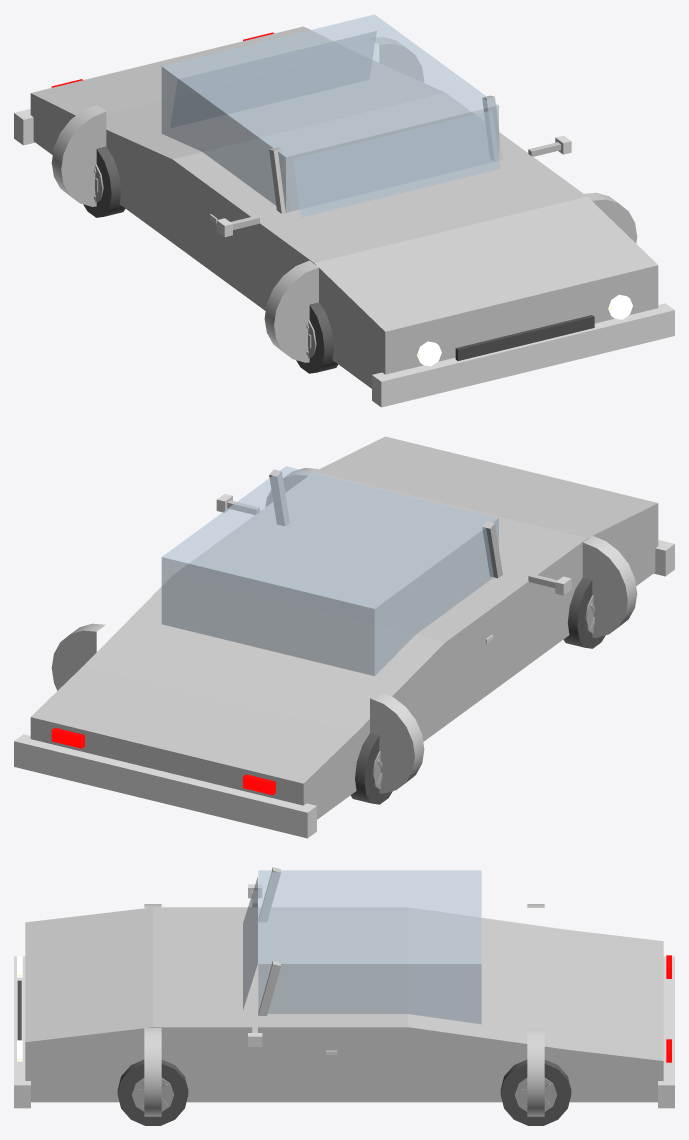
Rendered from sedan.glb.
The picture shows the model from 3 angles, top to bottom: view 1: azimuth 30°, elevation 25°; view 2: azimuth 150°, elevation 25°; view 3: azimuth 270°, elevation 25°; orthographic projection. The views are drawn at different scales.
Parts seen in each view (by area): view 1: sedan, wheel_FL, wheel_RL; view 2: sedan, wheel_RL, wheel_FL; view 3: sedan, wheel_FR, wheel_RR.
Boxes of the visible parts, box(x1,y1,x2,y2) form: sedan: box(14, 14, 674, 407); wheel_FL: box(296, 302, 338, 373); wheel_RL: box(83, 146, 125, 217); sedan: box(14, 436, 674, 838); wheel_RL: box(350, 733, 392, 804); wheel_FL: box(563, 577, 605, 648); sedan: box(14, 867, 674, 1116); wheel_FR: box(117, 1059, 188, 1125); wheel_RR: box(500, 1059, 571, 1125).
Size of the model in its own units: 2.66 by 1.14 by 4.66.
